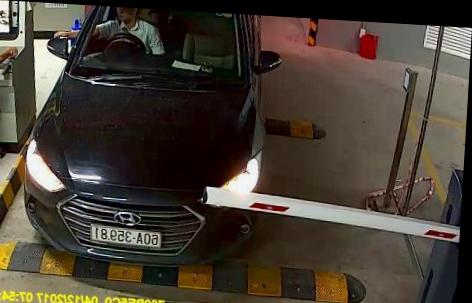License_Plate: (89, 225, 163, 248)
